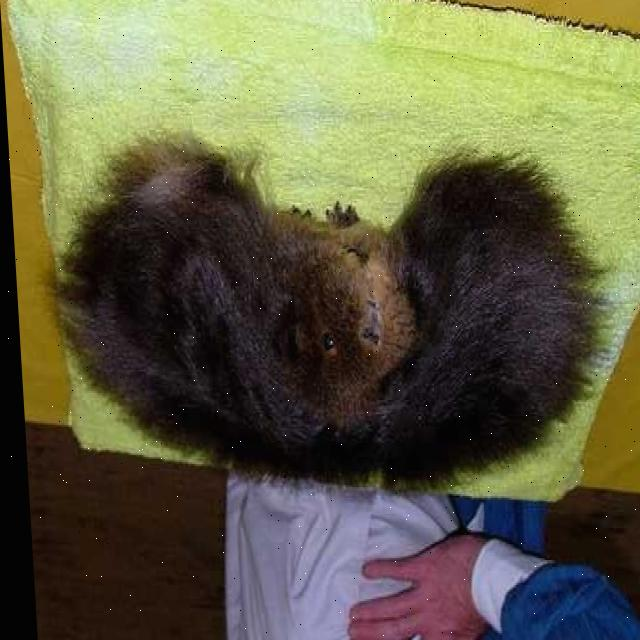guinea pig: (58, 173, 389, 487), (350, 164, 606, 490)
